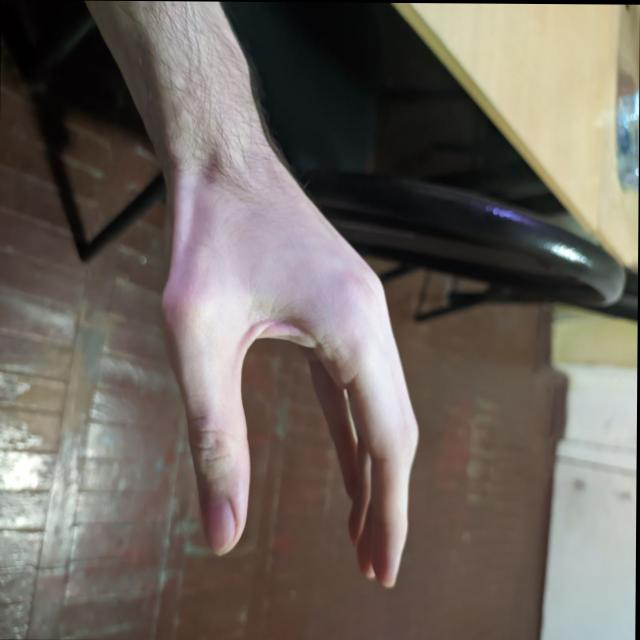s: (130, 105, 438, 613)
